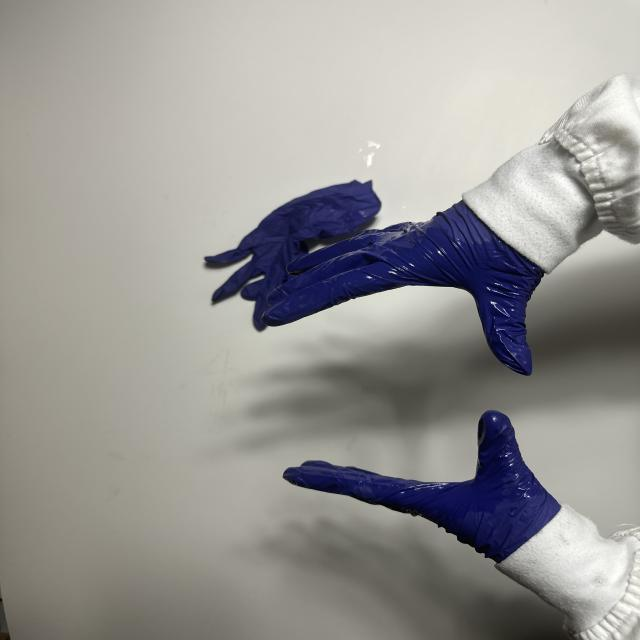gloves_contaminated: (264, 202, 542, 376), (284, 411, 560, 563)
